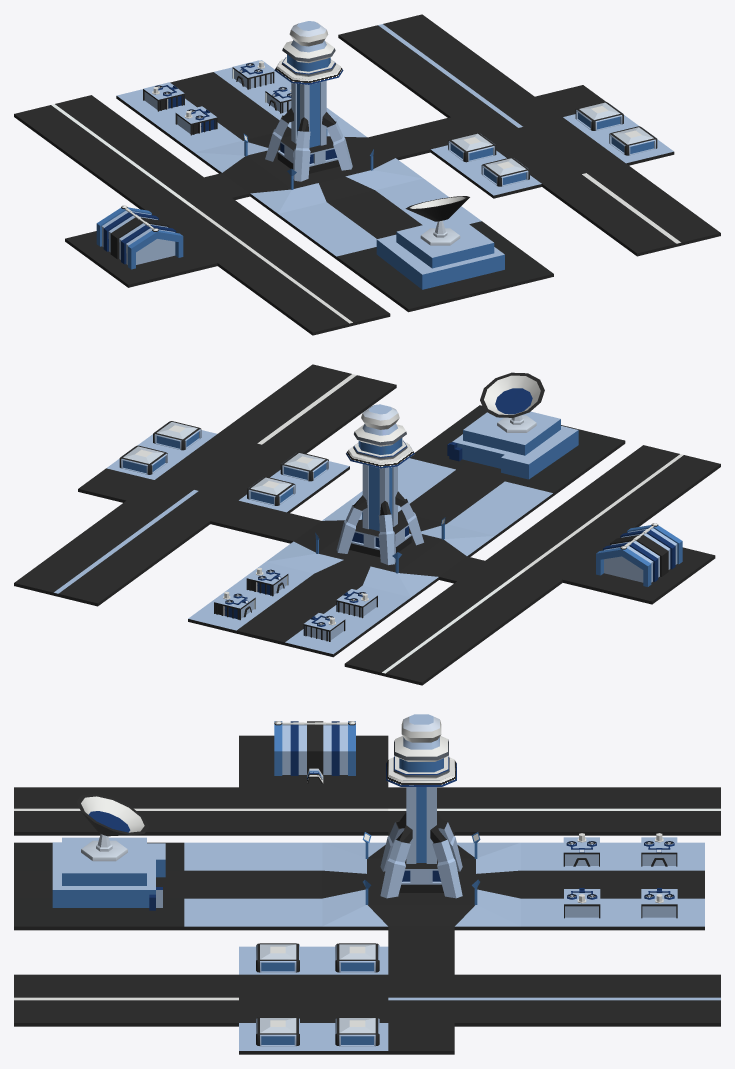
The model's file is KosmodromLevel5.fbx.
The picture shows the model from 3 angles, top to bottom: view 1: azimuth 30°, elevation 25°; view 2: azimuth 150°, elevation 25°; view 3: azimuth 270°, elevation 25°; orthographic projection. The views are drawn at different scales.
Parts seen in each view (by area): view 1: Cube.071, Cube.101, Cylinder.021, Cylinder.016, Cube.073, Cube.074, Cube.072, Cube.099, Cube.076, Cube.098, Cube.077, Cone (+5 smaller); view 2: Cube.071, Cube.101, Cylinder.021, Cylinder.016, Cone, Cube.073, Cube.074, Cube.072, Cube.098, Cube.099, Cube.077, Cube.076 (+5 smaller); view 3: Cube.071, Cube.101, Cylinder.021, Cylinder.016, Cube.073, Cube.074, Cone, Cube.076, Cube.077, Cube.098, Cube.099, Cube.072 (+5 smaller).
Part boxes in pixels (bbox=[...]): Cube.071: bbox=[14, 14, 720, 335]; Cube.101: bbox=[376, 216, 504, 289]; Cylinder.021: bbox=[96, 207, 183, 269]; Cylinder.016: bbox=[274, 21, 343, 84]; Cube.073: bbox=[265, 108, 352, 181]; Cube.074: bbox=[291, 80, 326, 148]; Cube.072: bbox=[277, 135, 339, 173]; Cube.099: bbox=[609, 126, 657, 155]; Cube.076: bbox=[448, 133, 496, 162]; Cube.098: bbox=[481, 157, 529, 186]; Cube.077: bbox=[575, 101, 623, 130]; Cone: bbox=[405, 196, 469, 221]; Cube.071: bbox=[14, 364, 720, 685]; Cube.101: bbox=[447, 411, 578, 479]; Cylinder.021: bbox=[596, 525, 682, 586]; Cylinder.016: bbox=[346, 404, 414, 468]; Cone: bbox=[480, 372, 544, 417]; Cube.073: bbox=[336, 491, 423, 565]; Cube.074: bbox=[362, 464, 397, 531]; Cube.072: bbox=[349, 519, 411, 557]; Cube.098: bbox=[280, 452, 328, 481]; Cube.099: bbox=[153, 421, 201, 450]; Cube.077: bbox=[119, 445, 167, 474]; Cube.076: bbox=[247, 476, 295, 505]; Cube.071: bbox=[14, 735, 720, 1054]; Cube.101: bbox=[52, 837, 165, 910]; Cylinder.021: bbox=[274, 721, 355, 775]; Cylinder.016: bbox=[386, 714, 456, 786]; Cube.073: bbox=[380, 812, 462, 898]; Cube.074: bbox=[406, 787, 436, 863]; Cone: bbox=[76, 794, 149, 836]; Cube.076: bbox=[335, 943, 379, 972]; Cube.077: bbox=[335, 1017, 379, 1046]; Cube.098: bbox=[256, 943, 299, 972]; Cube.099: bbox=[256, 1017, 299, 1046]; Cube.072: bbox=[399, 859, 443, 892].
Size of the model in its own units: 48.77 by 46.21 by 12.17.
Materials: 1 (1 with a texture image).
